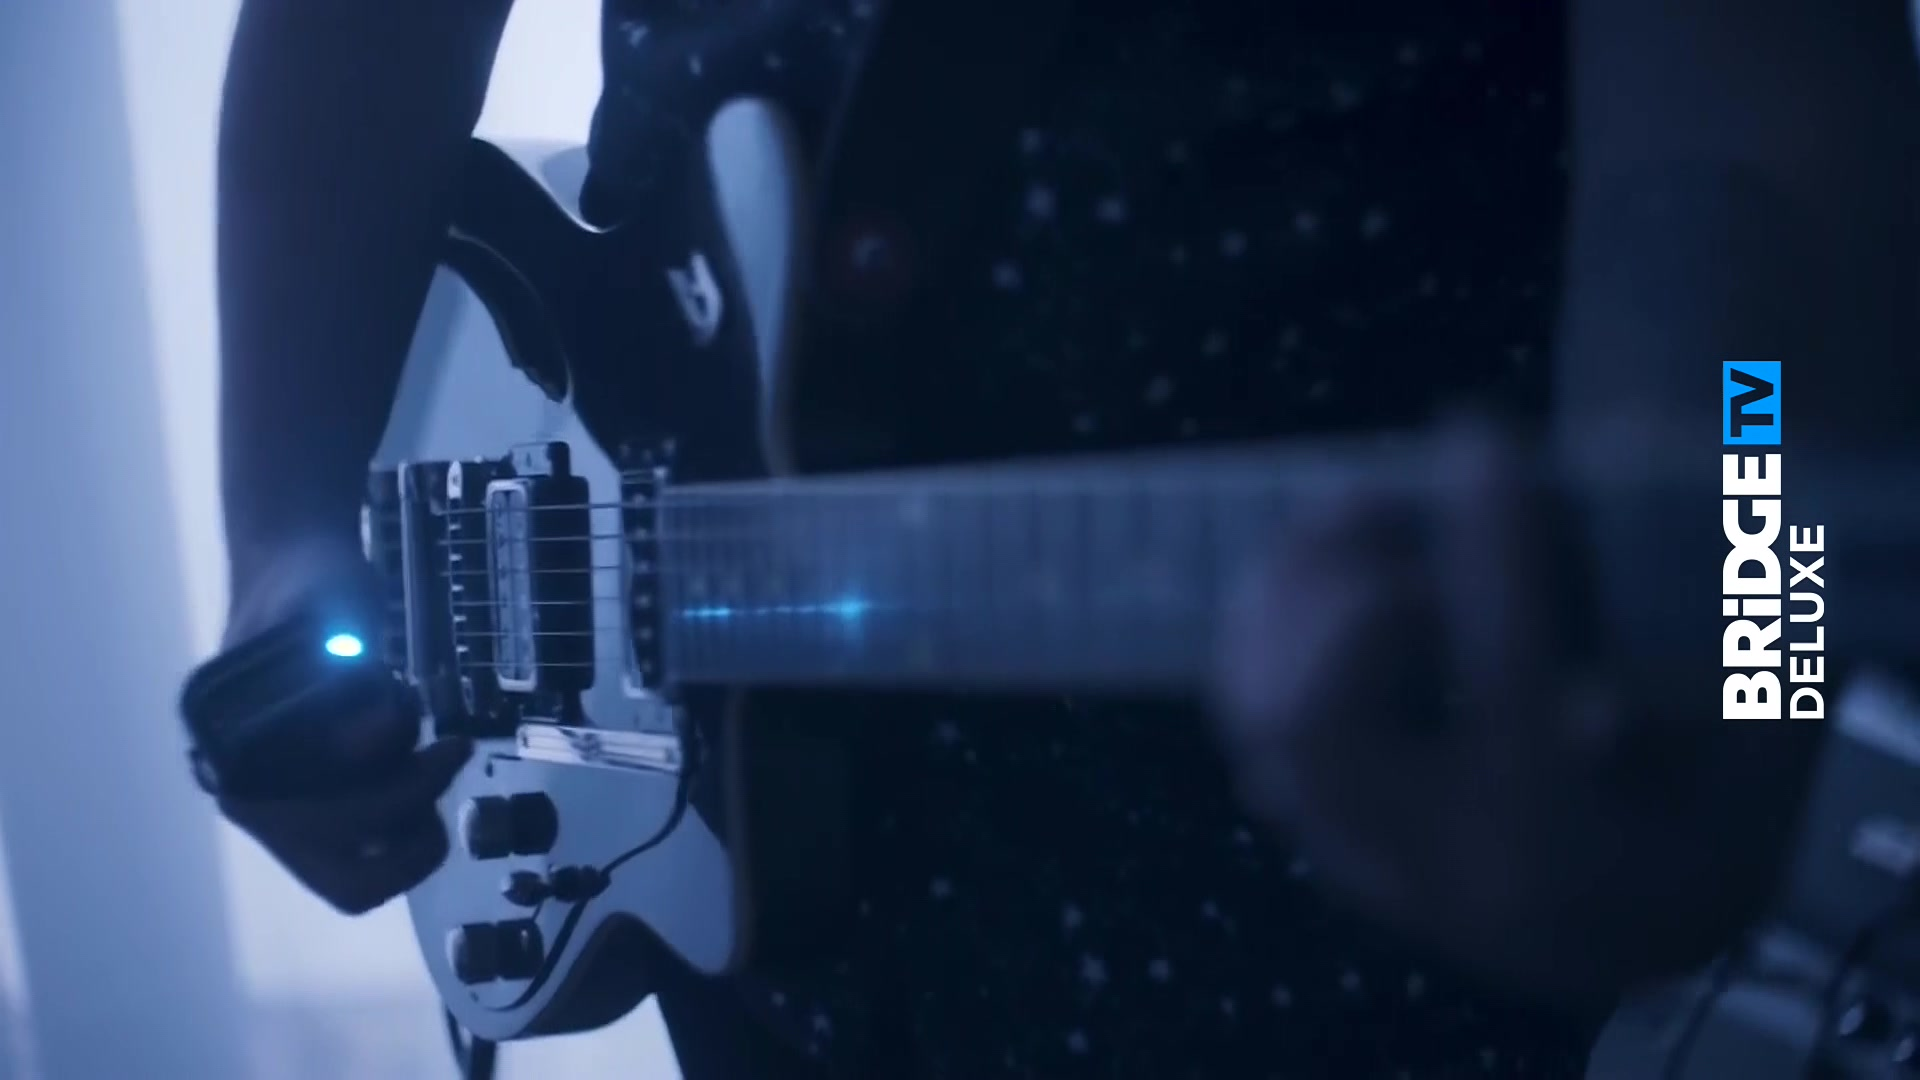Bridge_TV_Deluxe: (1718, 349, 1830, 724)
